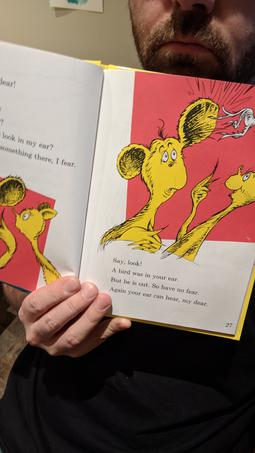text block: (101, 250, 214, 309), (1, 114, 77, 176), (1, 73, 29, 90)
